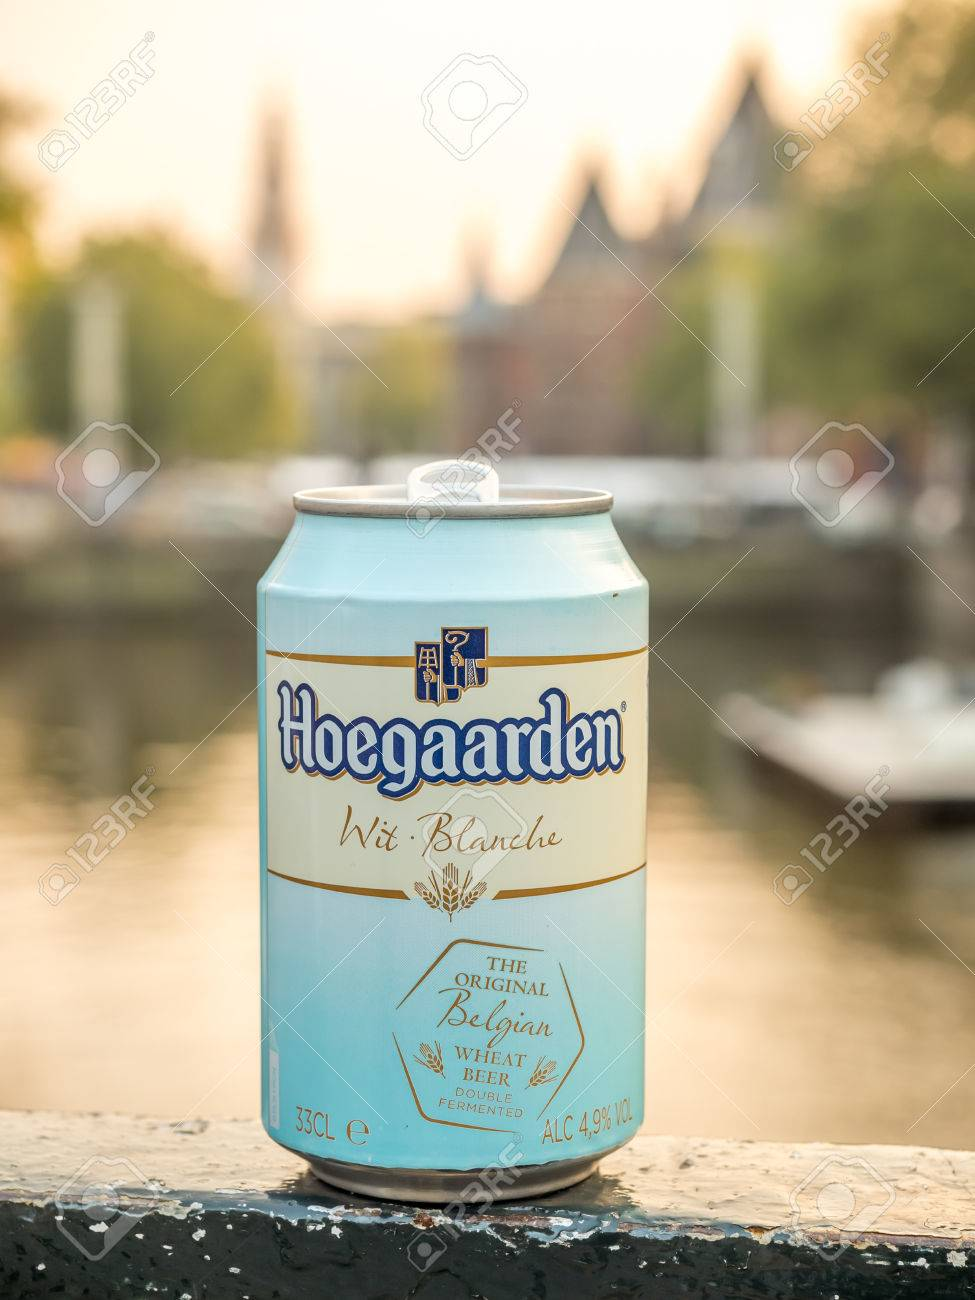beer can: (253, 480, 634, 1203)
